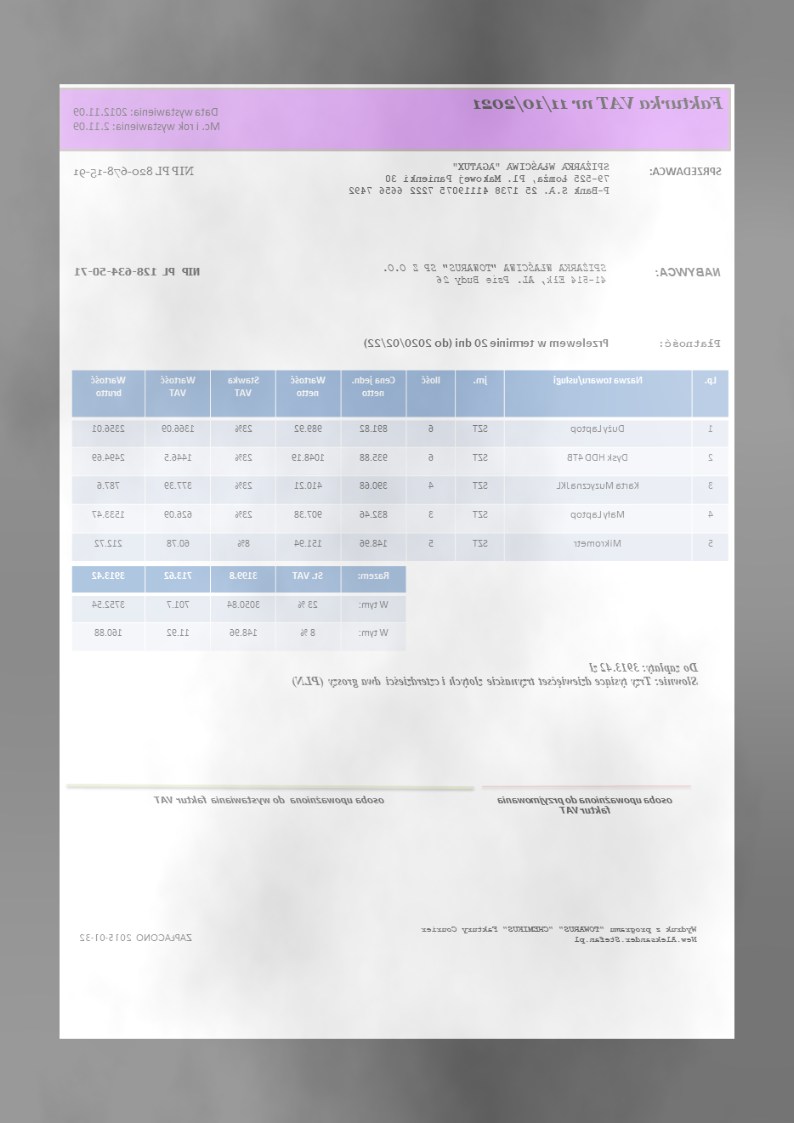Table: (71, 367, 731, 562), (71, 564, 407, 652)
TextBox: (290, 659, 701, 690), (348, 159, 614, 197), (419, 923, 700, 946), (381, 260, 610, 287), (472, 93, 726, 113), (71, 104, 224, 133), (496, 792, 675, 816), (150, 792, 387, 808), (362, 337, 611, 351), (73, 264, 202, 279), (72, 164, 198, 179), (78, 930, 196, 946), (649, 163, 724, 178), (655, 264, 723, 279), (657, 335, 723, 350)
